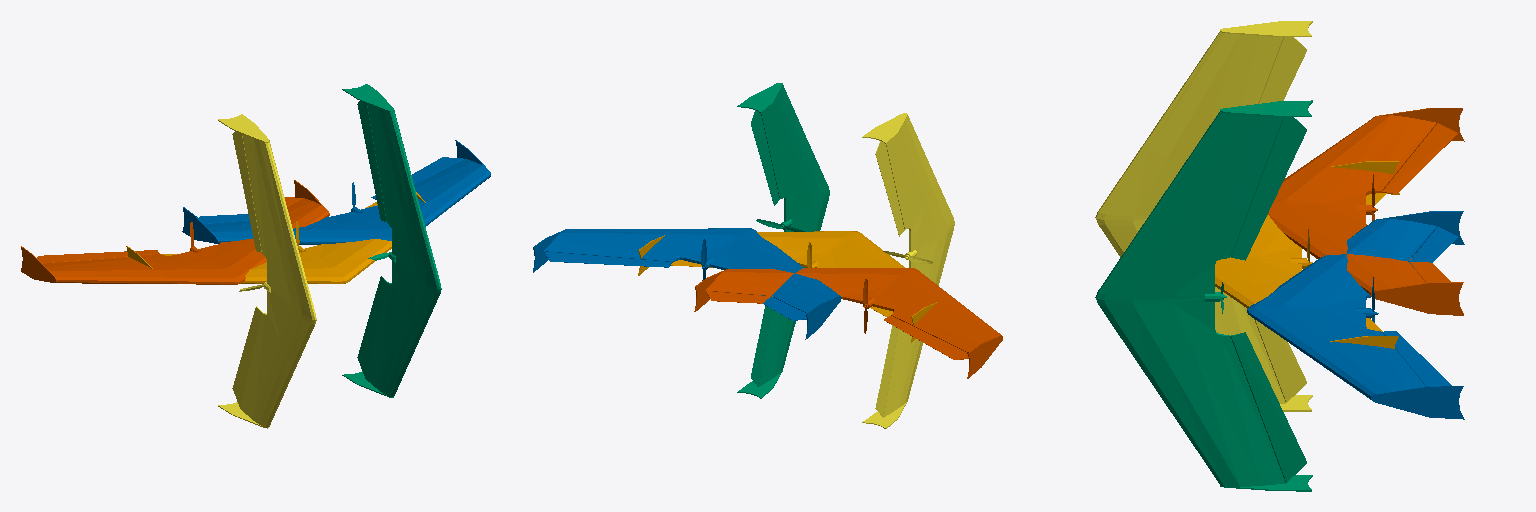
The robot description file, URDF, robot "zephyr_delta_wing_rudder":
<?xml version="1.0" ?>
<robot name="zephyr_delta_wing_rudder">
  <joint name="zephyr_delta_wing_rudder__zephyr/imu_joint" type="fixed">
    <parent link="zephyr_delta_wing_rudder__wing"/>
    <child link="zephyr_delta_wing_rudder__zephyr/imu_link"/>
    <origin xyz="0 0 0" rpy="0 0 0"/>
    <axis xyz="0 0 1"/>
    <limit lower="0.0" upper="0.0" effort="0.0" velocity="0.0"/>
  </joint>
  <joint name="zephyr_delta_wing_rudder__propeller_1_joint" type="revolute">
    <parent link="zephyr_delta_wing_rudder__wing"/>
    <child link="zephyr_delta_wing_rudder__propeller_1"/>
    <origin xyz="0.35  -0.32   0.008" rpy="0      1.57079 0"/>
    <axis xyz="0 -1  0"/>
    <limit lower="-1e+16" upper="1e+16" effort="0.0" velocity="0.0"/>
  </joint>
  <joint name="zephyr_delta_wing_rudder__propeller_2_joint" type="revolute">
    <parent link="zephyr_delta_wing_rudder__wing"/>
    <child link="zephyr_delta_wing_rudder__propeller_2"/>
    <origin xyz="-0.35  -0.32   0.008" rpy="0      1.57079 0"/>
    <axis xyz="0 1 0"/>
    <limit lower="-1e+16" upper="1e+16" effort="0.0" velocity="0.0"/>
  </joint>
  <joint name="zephyr_delta_wing_rudder__flap_left_joint" type="revolute">
    <parent link="zephyr_delta_wing_rudder__wing"/>
    <child link="zephyr_delta_wing_rudder__flap_left"/>
    <origin xyz="0.453 0.199 0.007" rpy="0 0 0"/>
    <axis xyz="1      0.33032 0"/>
    <limit lower="-0.524" upper="0.524" effort="0.0" velocity="0.0"/>
  </joint>
  <joint name="zephyr_delta_wing_rudder__flap_right_joint" type="revolute">
    <parent link="zephyr_delta_wing_rudder__wing"/>
    <child link="zephyr_delta_wing_rudder__flap_right"/>
    <origin xyz="-0.453  0.199  0.007" rpy="0 0 0"/>
    <axis xyz="1      -0.33032  0"/>
    <limit lower="-0.524" upper="0.524" effort="0.0" velocity="0.0"/>
  </joint>
  <joint name="zephyr_delta_wing_rudder__base_link_joint" type="fixed">
    <parent link="zephyr_delta_wing_rudder__base_link"/>
    <child link="zephyr_delta_wing_rudder__wing"/>
    <origin xyz="0      0      0.02577" rpy="0 0 0"/>
    <axis xyz="0 0 0"/>
    <limit lower="0" upper="0" effort="0" velocity="0"/>
  </joint>
  <link name="zephyr_delta_wing_rudder__wing">
    <inertial>
      <mass value="1.5"/>
      <origin xyz="0   -0.12  0" rpy="0 0 0"/>
      <inertia ixx="0.083137104" ixy="0" ixz="0" iyy="0.387382402" iyz="0" izz="0.469845106"/>
    </inertial>
    <collision name="zephyr_delta_wing_rudder__body_collision">
      <origin xyz="0 0 0" rpy="0 0 0"/>
      <geometry>
        <mesh filename="package://kuav_simulation/models/zephyr_delta_wing_rudder/meshes/wing.dae OR kuav_simulation/models/zephyr_delta_wing/meshes/wing.dae" scale="1.0 1.0 1.0"/>
      </geometry>
    </collision>
    <collision name="zephyr_delta_wing_rudder__right_rudder_collision">
      <origin xyz="-0.76435  0.33918  0.002" rpy="-0.03  0    0"/>
      <geometry>
        <box size=".005 0.12993 .12688"/>
      </geometry>
    </collision>
    <collision name="zephyr_delta_wing_rudder__left_rudder_collision">
      <origin xyz="0.76435 0.33918 0.002" rpy="-0.03  0    0"/>
      <geometry>
        <box size=".005 0.12993 .12688"/>
      </geometry>
    </collision>
    <visual name="zephyr_delta_wing_rudder__visual">
      <origin xyz="0 0 0" rpy="0 0 0"/>
      <geometry>
        <mesh filename="package://kuav_simulation/models/zephyr_delta_wing_rudder/meshes/wing.dae OR kuav_simulation/models/zephyr_delta_wing/meshes/wing.dae" scale="1.0 1.0 1.0"/>
      </geometry>
    </visual>
  </link>
  <link name="zephyr_delta_wing_rudder__zephyr/imu_link">
    <inertial>
      <mass value="0.15"/>
      <origin xyz="0 0 0" rpy="0 0 0"/>
      <inertia ixx="0.00001" ixy="0" ixz="0" iyy="0.00002" iyz="0" izz="0.00002"/>
    </inertial>
  </link>
  <link name="zephyr_delta_wing_rudder__propeller_1">
    <inertial>
      <mass value=".05"/>
      <origin xyz="0 0 0" rpy="0 0 0"/>
      <inertia ixx="0.000367571" ixy="0" ixz="0" iyy="0.00036985" iyz="0" izz="0.000003187"/>
    </inertial>
    <collision name="zephyr_delta_wing_rudder__blade1">
      <origin xyz="0     0     0.0742" rpy="0  0  0.3"/>
      <geometry>
        <box size="0.02561 0.00541 0.14841"/>
      </geometry>
    </collision>
    <collision name="zephyr_delta_wing_rudder__blade2">
      <origin xyz="0      0     -0.0742" rpy="0   0  -0.3"/>
      <geometry>
        <box size="0.02561 0.00541 0.14841"/>
      </geometry>
    </collision>
    <visual name="zephyr_delta_wing_rudder__visual">
      <origin xyz="0 0 0" rpy="0 0 0"/>
      <geometry>
        <mesh filename="package://kuav_simulation/models/zephyr_delta_wing_rudder/meshes/wing.dae OR kuav_simulation/models/zephyr_delta_wing/meshes/wing.dae" scale="1.0 1.0 1.0"/>
      </geometry>
    </visual>
  </link>
  <link name="zephyr_delta_wing_rudder__propeller_2">
    <inertial>
      <mass value=".05"/>
      <origin xyz="0 0 0" rpy="0 0 0"/>
      <inertia ixx="0.000367571" ixy="0" ixz="0" iyy="0.00036985" iyz="0" izz="0.000003187"/>
    </inertial>
    <collision name="zephyr_delta_wing_rudder__blade1">
      <origin xyz="0     0     0.0742" rpy="0   0  -0.3"/>
      <geometry>
        <box size="0.02561 0.00541 0.14841"/>
      </geometry>
    </collision>
    <collision name="zephyr_delta_wing_rudder__blade2">
      <origin xyz="0      0     -0.0742" rpy="0  0  0.3"/>
      <geometry>
        <box size="0.02561 0.00541 0.14841"/>
      </geometry>
    </collision>
    <visual name="zephyr_delta_wing_rudder__visual">
      <origin xyz="0 0 0" rpy="0 0 0"/>
      <geometry>
        <mesh filename="package://kuav_simulation/models/zephyr_delta_wing_rudder/meshes/wing.dae OR kuav_simulation/models/zephyr_delta_wing/meshes/wing.dae" scale="-1 1 1"/>
      </geometry>
    </visual>
  </link>
  <link name="zephyr_delta_wing_rudder__flap_left">
    <inertial>
      <mass value=".1"/>
      <origin xyz="0 0 0" rpy="0      0      0.32445"/>
      <inertia ixx="0.000102319" ixy="0" ixz="0" iyy="0.00334417" iyz="0" izz="0.003446072"/>
    </inertial>
    <collision name="zephyr_delta_wing_rudder__collision">
      <origin xyz="-0.01  0.05  0" rpy="0      0      0.32445"/>
      <geometry>
        <box size="0.633463031 0.110694312 0.005"/>
      </geometry>
    </collision>
    <visual name="zephyr_delta_wing_rudder__visual">
      <origin xyz="0   0.04 0" rpy="0 0 0"/>
      <geometry>
        <mesh filename="package://kuav_simulation/models/zephyr_delta_wing_rudder/meshes/wing.dae OR kuav_simulation/models/zephyr_delta_wing/meshes/wing.dae" scale="1.0 1.0 1.0"/>
      </geometry>
    </visual>
  </link>
  <link name="zephyr_delta_wing_rudder__flap_right">
    <inertial>
      <mass value=".1"/>
      <origin xyz="0 0 0" rpy="0       0      -0.32445"/>
      <inertia ixx="0.000102319" ixy="0" ixz="0" iyy="0.00334417" iyz="0" izz="0.003446072"/>
    </inertial>
    <collision name="zephyr_delta_wing_rudder__collision">
      <origin xyz="0.01 0.05 0" rpy="0       0      -0.32445"/>
      <geometry>
        <box size="0.633463031 0.110694312 0.005"/>
      </geometry>
    </collision>
    <visual name="zephyr_delta_wing_rudder__visual">
      <origin xyz="0   0.04 0" rpy="0 0 0"/>
      <geometry>
        <mesh filename="package://kuav_simulation/models/zephyr_delta_wing_rudder/meshes/wing.dae OR kuav_simulation/models/zephyr_delta_wing/meshes/wing.dae" scale="1.0 1.0 1.0"/>
      </geometry>
    </visual>
  </link>
  <link name="zephyr_delta_wing_rudder__base_link">
    <inertial>
      <mass value="1e-10"/>
      <origin xyz="0 0 0" rpy="0 0 0"/>
      <inertia ixx="0.00000000001" ixy="0" ixz="0" iyy="0.00000000001" iyz="0" izz="0.00000000001"/>
    </inertial>
  </link>
</robot>

--- Render facts (derived) ---
3 views of the same robot in one strip: view 1: azimuth 30°, elevation 25°; view 2: azimuth 150°, elevation 25°; view 3: azimuth 270°, elevation 25° (orthographic).
Robot: zephyr_delta_wing_rudder — 7 links, 6 joints (4 revolute, 2 fixed); root link zephyr_delta_wing_rudder__base_link; default pose: every joint at zero.
Links seen in each view (by area): view 1: zephyr_delta_wing_rudder__propeller_1, zephyr_delta_wing_rudder__propeller_2, zephyr_delta_wing_rudder__flap_right, zephyr_delta_wing_rudder__flap_left, zephyr_delta_wing_rudder__wing; view 2: zephyr_delta_wing_rudder__flap_left, zephyr_delta_wing_rudder__flap_right, zephyr_delta_wing_rudder__propeller_2, zephyr_delta_wing_rudder__propeller_1, zephyr_delta_wing_rudder__wing; view 3: zephyr_delta_wing_rudder__propeller_1, zephyr_delta_wing_rudder__propeller_2, zephyr_delta_wing_rudder__flap_left, zephyr_delta_wing_rudder__flap_right, zephyr_delta_wing_rudder__wing.
Boxes of the visible links, x1,y1,x2,y2 form: zephyr_delta_wing_rudder__propeller_1: [342, 84, 441, 397]; zephyr_delta_wing_rudder__propeller_2: [218, 114, 316, 428]; zephyr_delta_wing_rudder__flap_right: [21, 180, 329, 284]; zephyr_delta_wing_rudder__flap_left: [182, 140, 490, 244]; zephyr_delta_wing_rudder__wing: [126, 192, 425, 283]; zephyr_delta_wing_rudder__flap_left: [533, 228, 841, 339]; zephyr_delta_wing_rudder__flap_right: [694, 268, 1002, 378]; zephyr_delta_wing_rudder__propeller_2: [862, 113, 954, 428]; zephyr_delta_wing_rudder__propeller_1: [737, 83, 829, 398]; zephyr_delta_wing_rudder__wing: [638, 231, 937, 342]; zephyr_delta_wing_rudder__propeller_1: [1095, 100, 1312, 491]; zephyr_delta_wing_rudder__propeller_2: [1095, 21, 1312, 411]; zephyr_delta_wing_rudder__flap_left: [1247, 211, 1464, 419]; zephyr_delta_wing_rudder__flap_right: [1268, 108, 1464, 315]; zephyr_delta_wing_rudder__wing: [1215, 161, 1399, 348].
Bounding box of the posed robot: 2.44 × 1.37 × 1.53 m (x, y, z).
5 mesh visuals loaded from 1 distinct referenced files (1 Collada DAE).